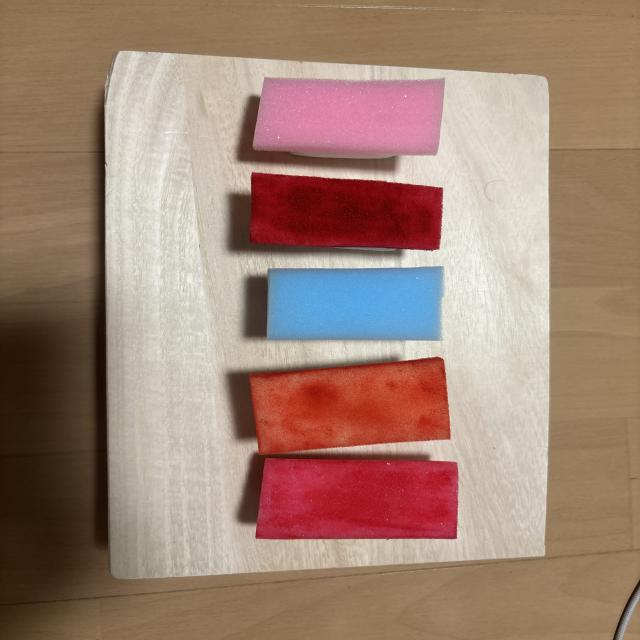ika: (267, 267, 443, 340)
maguro: (257, 459, 458, 539), (250, 173, 443, 250)
salmon: (250, 357, 450, 454)
tai: (253, 78, 445, 158)
